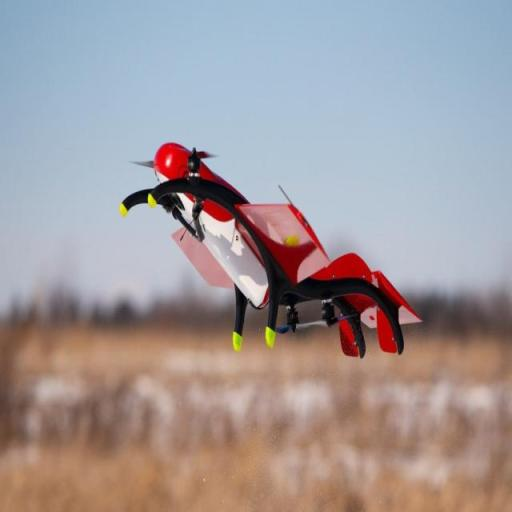uav: (124, 131, 430, 380)
